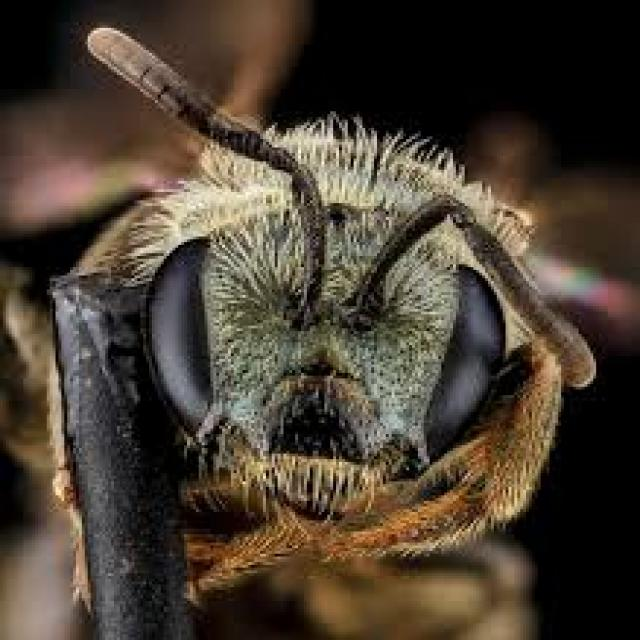Seladonia: (47, 41, 624, 593)
